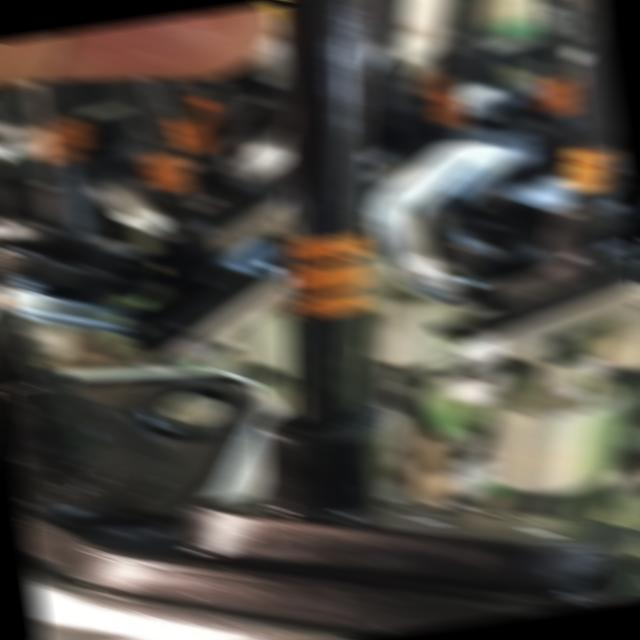orange: (280, 228, 371, 321), (561, 143, 614, 194), (139, 150, 190, 192), (534, 78, 580, 116)
